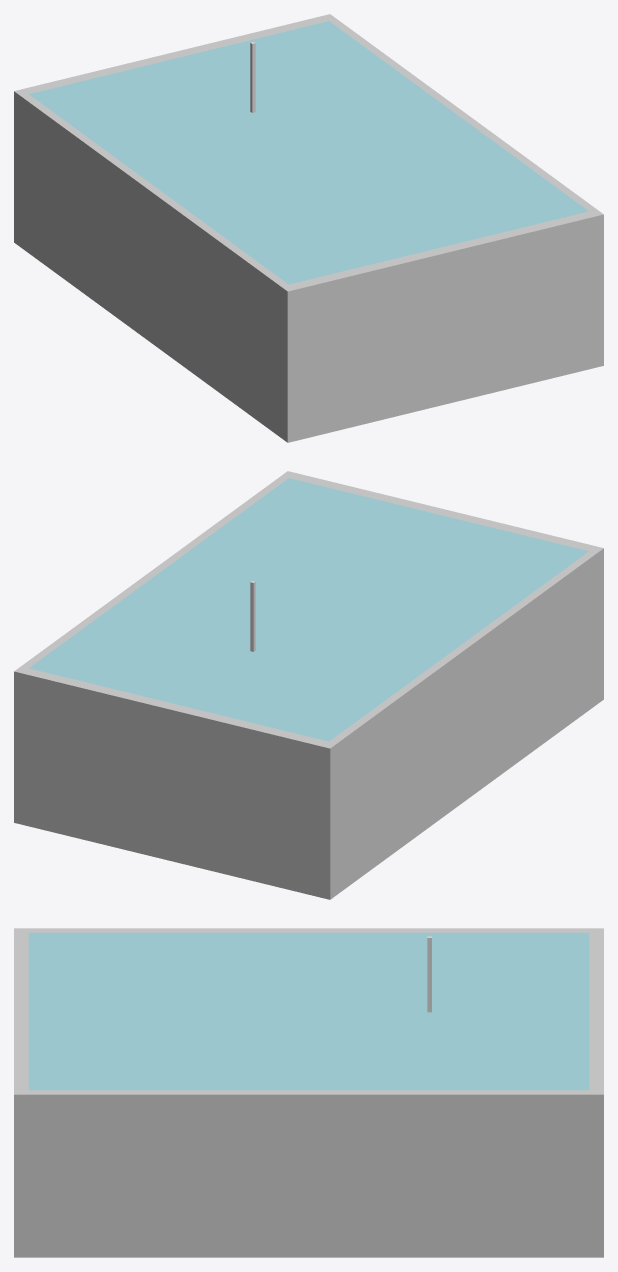
File: SCP_Loading_Test.fbx
The picture shows the model from 3 angles, top to bottom: view 1: azimuth 30°, elevation 25°; view 2: azimuth 150°, elevation 25°; view 3: azimuth 270°, elevation 25°; orthographic projection. The views are drawn at different scales.
Parts seen in each view (by area): view 1: Room; view 2: Room; view 3: Room.
Boxes of the visible parts, x1,y1,x2,y2 form: Room: (14,14,603,442); Room: (14,471,603,899); Room: (14,928,603,1257).
Bounding box in the file's own units: 800 × 533 × 1200.
